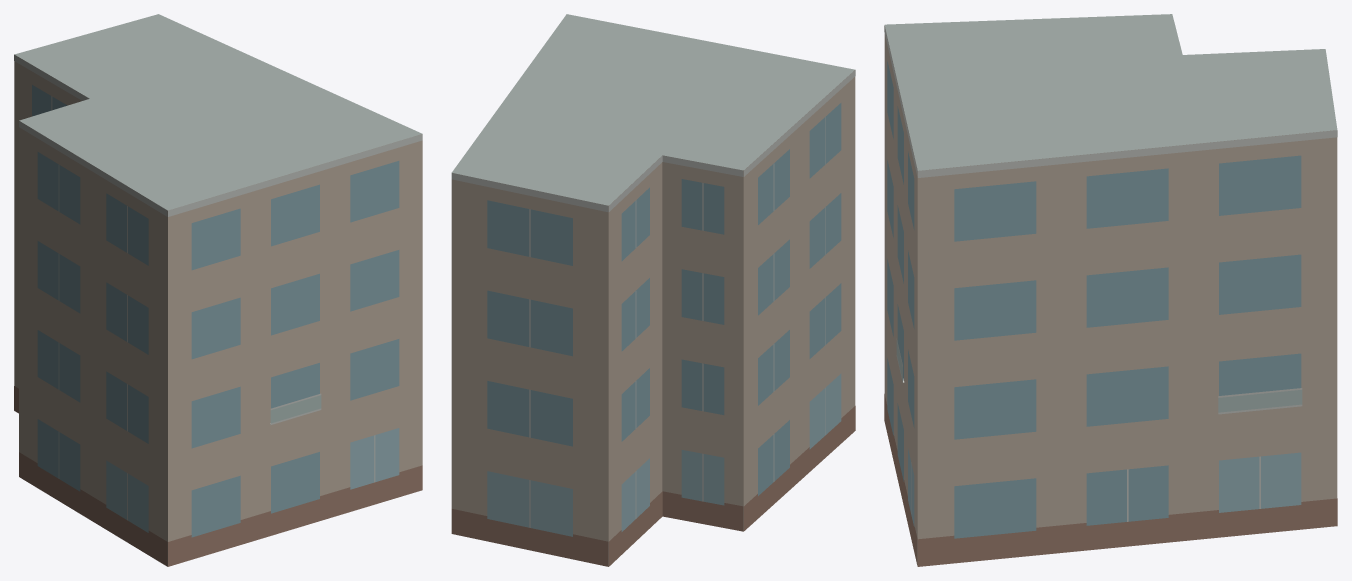
File: survey-upis-32896328.glb
3 renders of one model, left to right at view 1: azimuth 30°, elevation 25°; view 2: azimuth 150°, elevation 25°; view 3: azimuth 270°, elevation 25°, orthographic. The views are drawn at different scales.
Visible parts, largest first — view 1: survey-upis-32896328.tmp; view 2: survey-upis-32896328.tmp; view 3: survey-upis-32896328.tmp.
Part boxes in pixels (bbox=[...]): survey-upis-32896328.tmp: bbox=[14, 14, 422, 566]; survey-upis-32896328.tmp: bbox=[451, 14, 855, 566]; survey-upis-32896328.tmp: bbox=[884, 14, 1337, 566].
Bounding box in the file's own units: 11.31 × 13.3 × 13.8.
